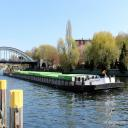tugboat: (4, 65, 25, 79)
